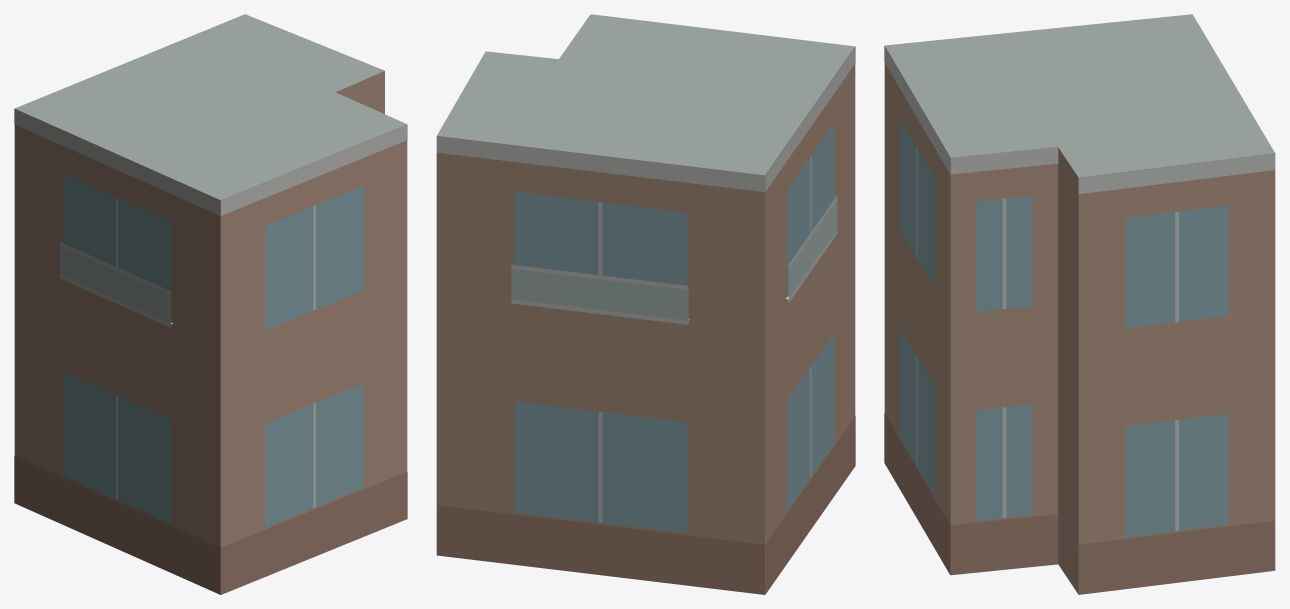
Rendered from survey-upis-32811587.glb.
3 views of the same model, side by side, from view 1: azimuth 30°, elevation 25°; view 2: azimuth 150°, elevation 25°; view 3: azimuth 270°, elevation 25° (orthographic). The views are drawn at different scales.
Visible parts, largest first — view 1: survey-upis-32811587.tmp; view 2: survey-upis-32811587.tmp; view 3: survey-upis-32811587.tmp.
Part boxes in pixels (x1=…): survey-upis-32811587.tmp: x1=14, y1=14, x2=407, y2=594; survey-upis-32811587.tmp: x1=436, y1=14, x2=855, y2=594; survey-upis-32811587.tmp: x1=884, y1=14, x2=1275, y2=594.
Bounding box in the file's own units: 5.14 × 6.1 × 5.19.
